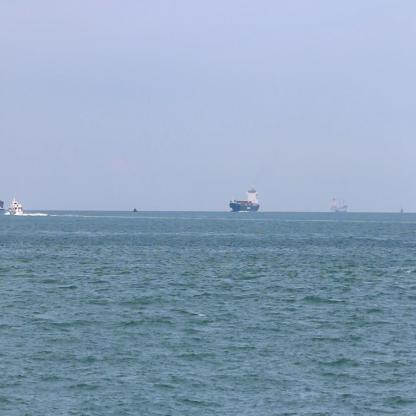Container Ship: (228, 181, 261, 215), (328, 192, 348, 214), (0, 202, 8, 214)
